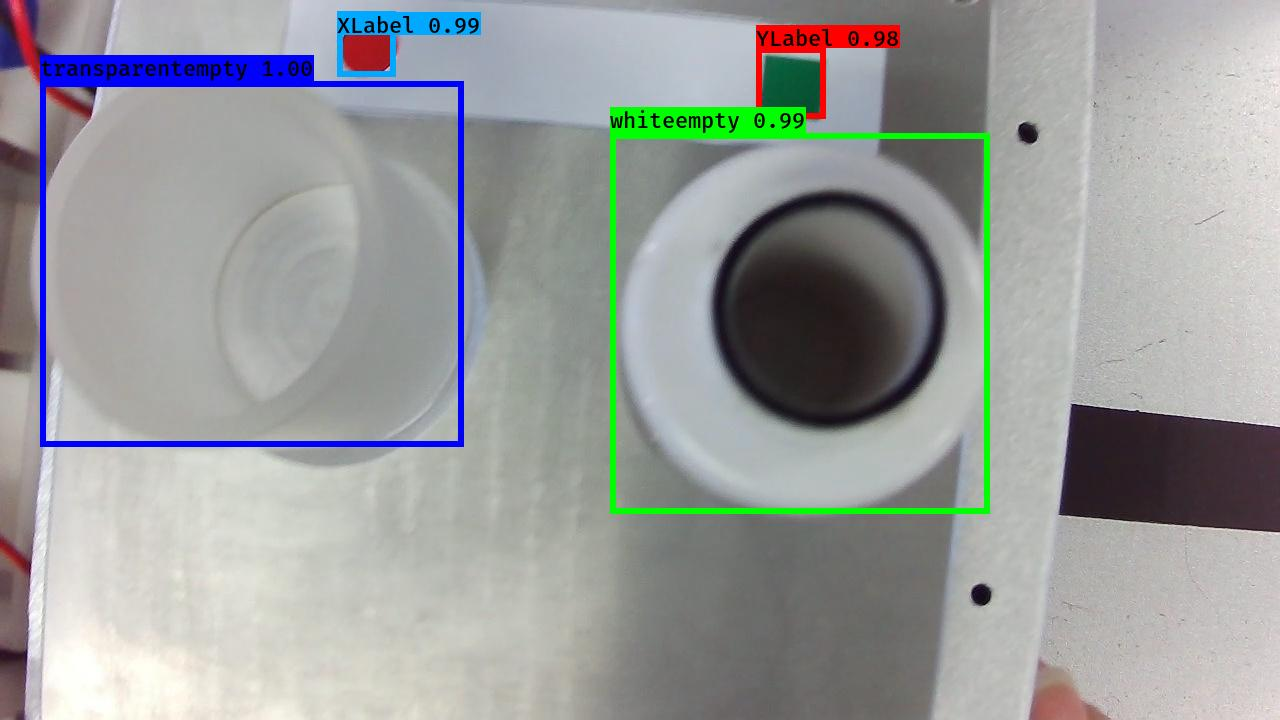XLabel: (337, 15, 399, 77)
YLabel: (758, 50, 826, 121)
transparentempty: (27, 59, 477, 476)
whiteempty: (609, 139, 994, 519)
